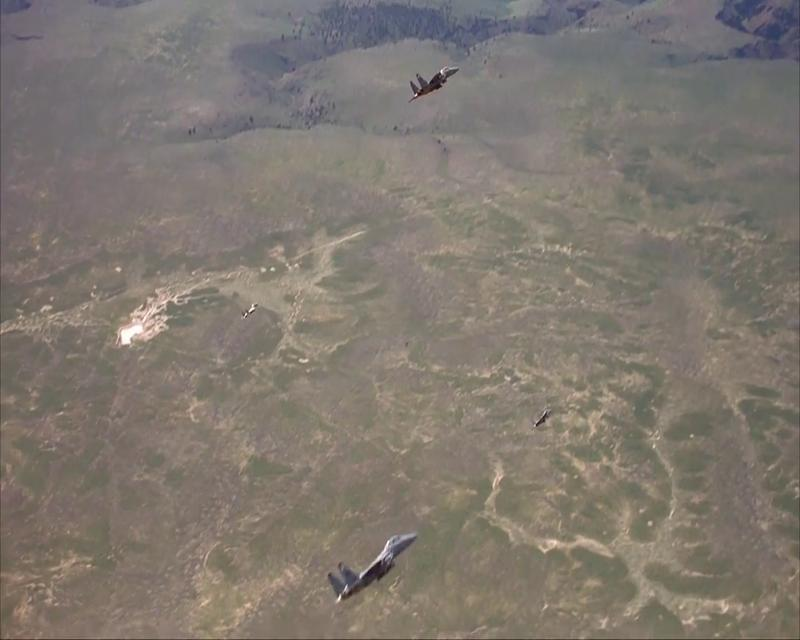UAV: (326, 532, 416, 604), (406, 65, 460, 104), (532, 408, 552, 428)
